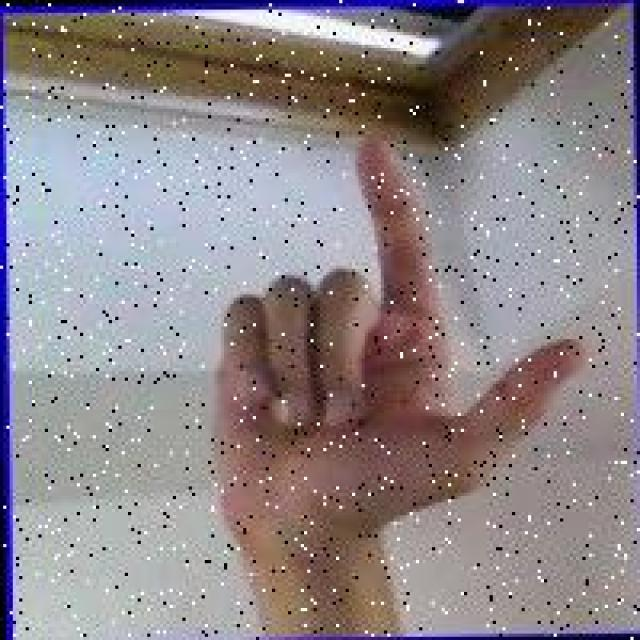L: (198, 125, 596, 534)
